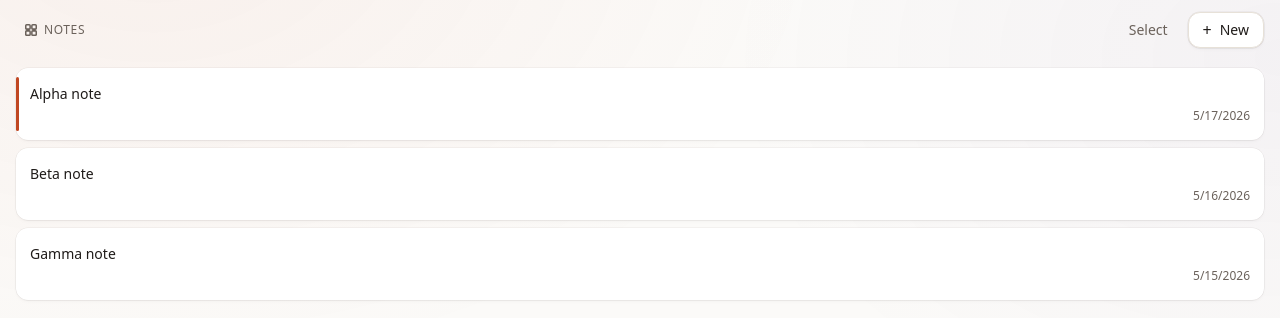
Test case: NotesList › toggles selection with Space in selection mode
Click the button "Select": (1148,30) [1115,12,1182,48]
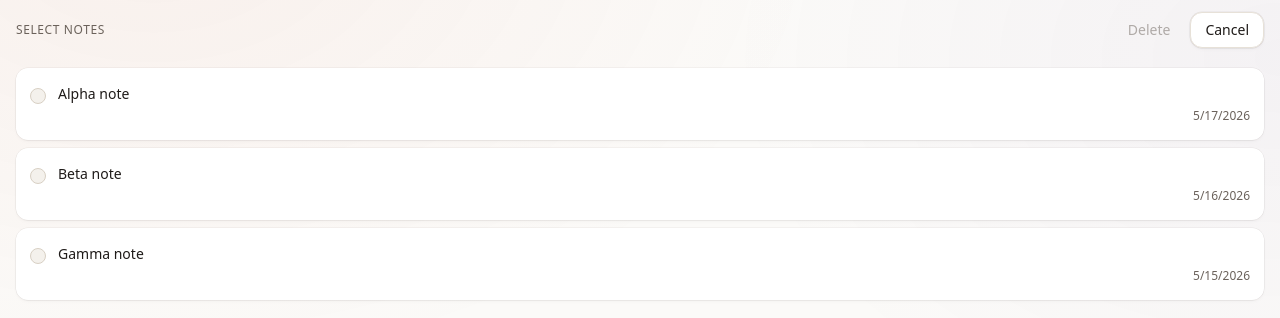
Type keys " "
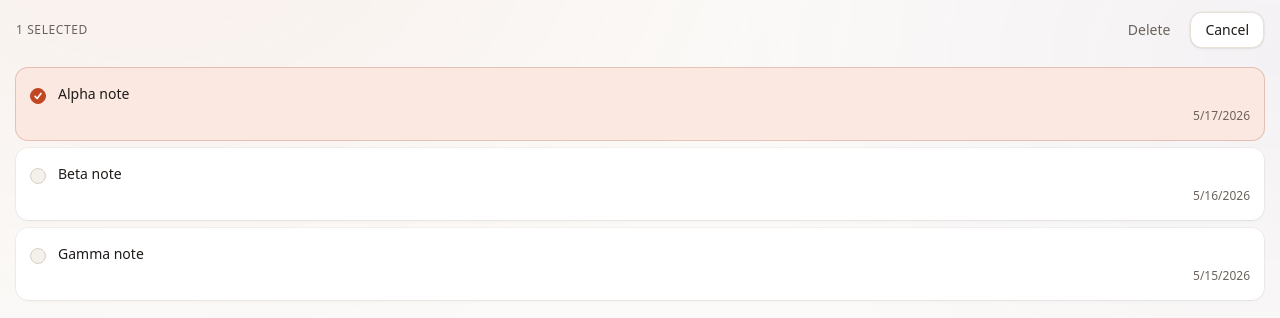
Expected: the text "1 selected" is shown, [16,22,88,38]
